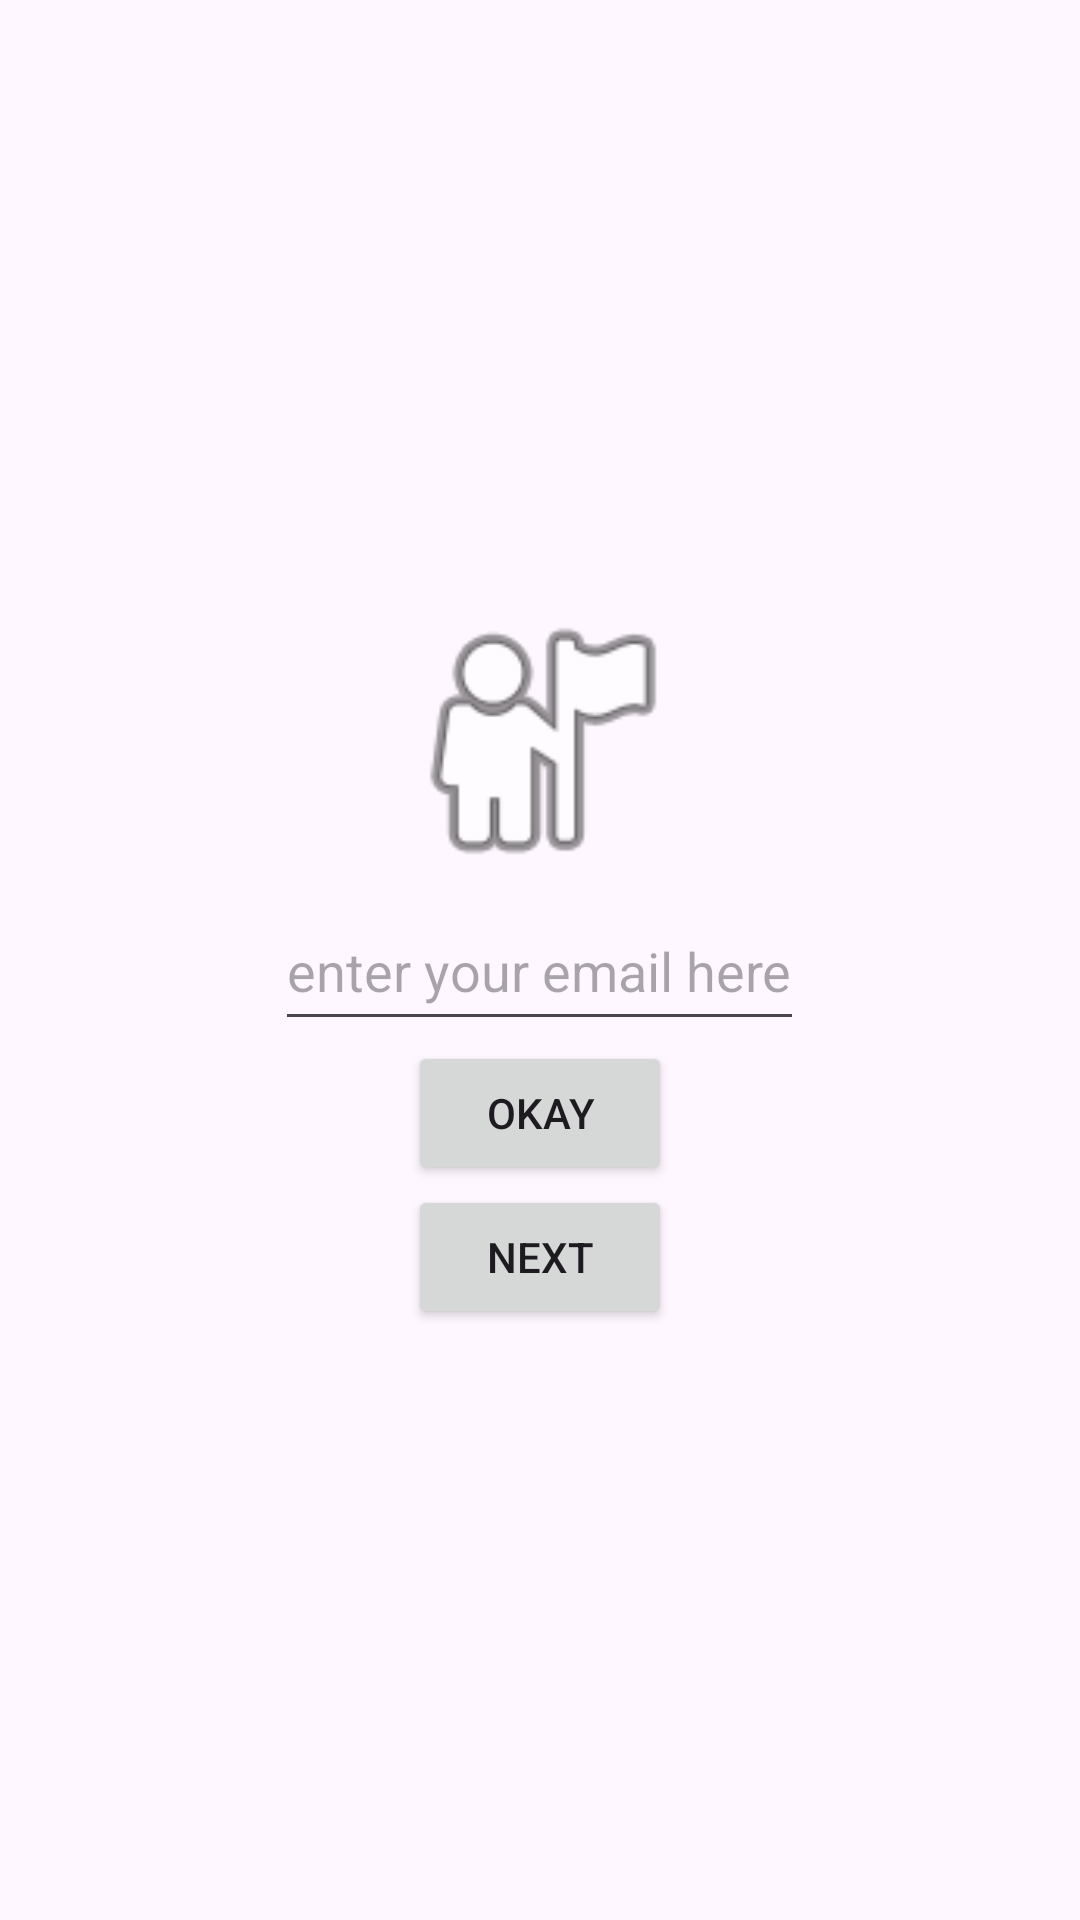

Named icons in this screenshot (1080px x 1920px) and their centers, (x,y):
User Icon: (543,741)
